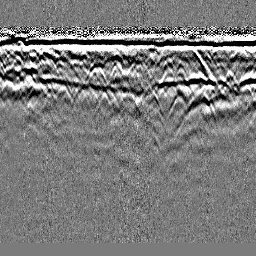cavity: (115, 90, 141, 112)
